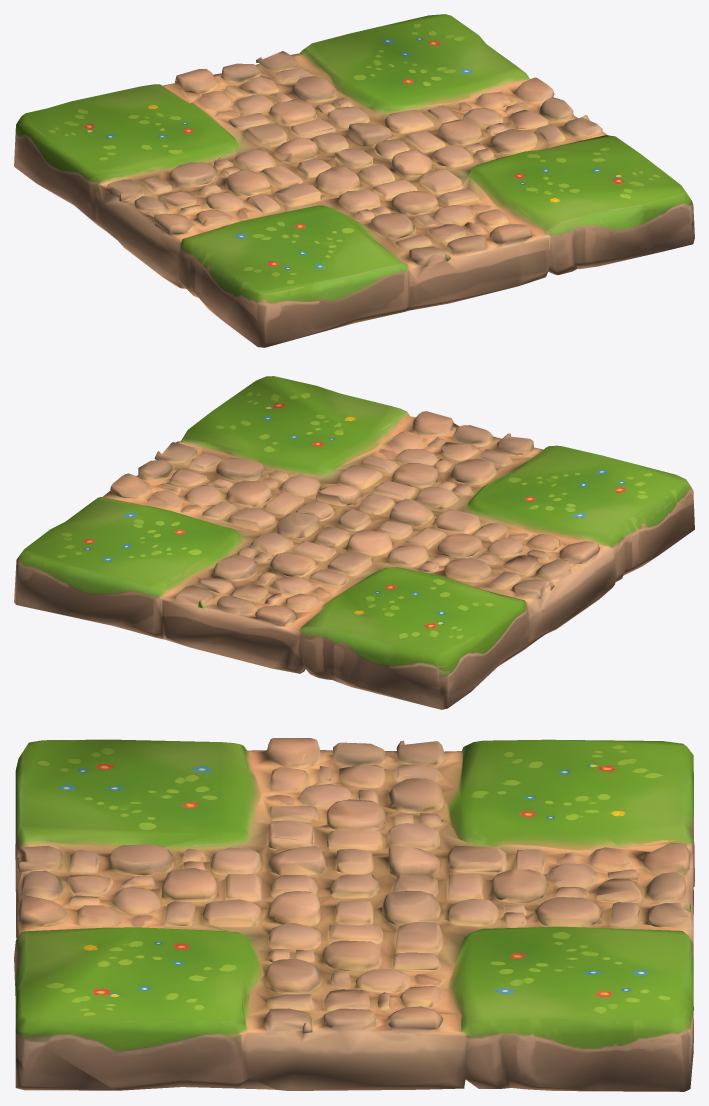
File: path-cross.glb
3 renders of one model, top to bottom at view 1: azimuth 30°, elevation 25°; view 2: azimuth 150°, elevation 25°; view 3: azimuth 270°, elevation 25°, orthographic. The views are drawn at different scales.
Visible parts, largest first — view 1: Mesh1.0; view 2: Mesh1.0; view 3: Mesh1.0.
Boxes of the visible parts, x1=… form: Mesh1.0: x1=14, y1=14, x2=694, y2=347; Mesh1.0: x1=14, y1=376, x2=694, y2=709; Mesh1.0: x1=14, y1=738, x2=694, y2=1091.
Bounding box in the file's own units: 1.9 × 0.2282 × 1.9.
Materials: 1 (1 with a texture image).
